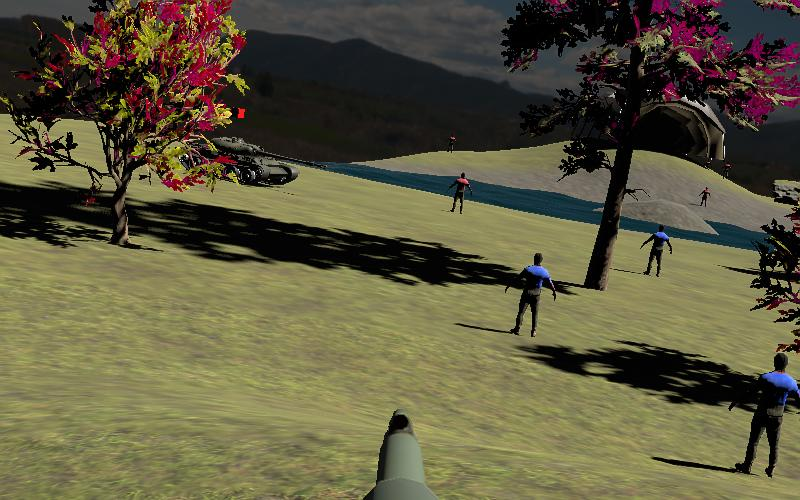Human: (728, 349, 800, 483), (503, 250, 559, 340), (638, 222, 676, 280), (445, 170, 475, 216), (696, 184, 713, 210)
Tank: (172, 130, 332, 190)
